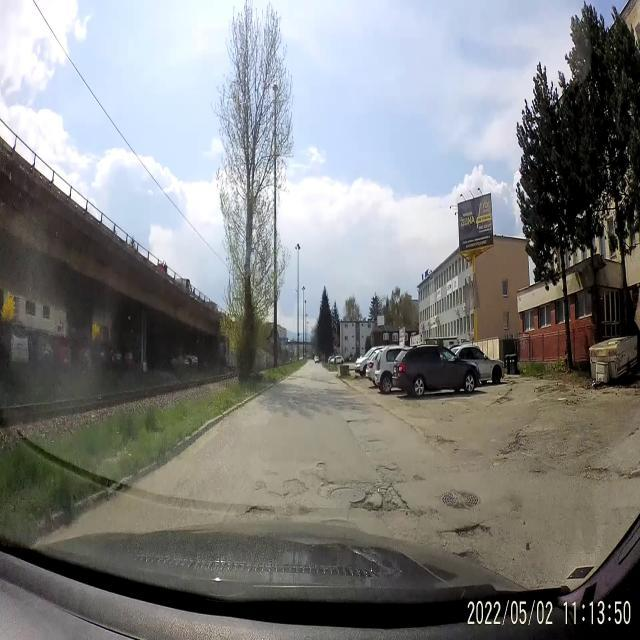Manhole: (438, 478, 486, 516)
Pothole: (564, 455, 640, 501), (481, 430, 539, 468), (358, 483, 410, 519), (429, 518, 496, 544), (482, 382, 530, 417), (313, 444, 331, 512), (328, 479, 367, 509), (245, 466, 278, 498), (244, 496, 278, 522), (282, 470, 307, 504), (376, 462, 408, 481), (343, 413, 374, 431)
